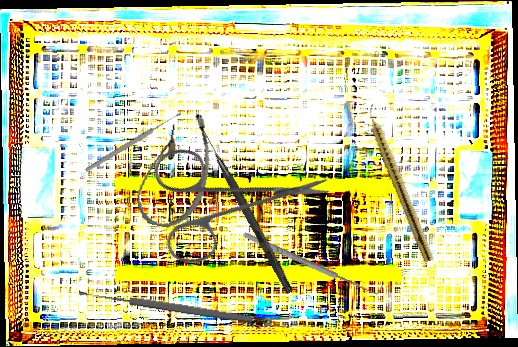Cannula: (132, 105, 219, 234)
Handpiece: (361, 102, 438, 264)
Hook Surgical: (195, 123, 296, 295), (240, 224, 385, 301)
Iris Scissors: (116, 90, 336, 310)
Surgical Spoon: (78, 287, 253, 325), (84, 110, 183, 174)
